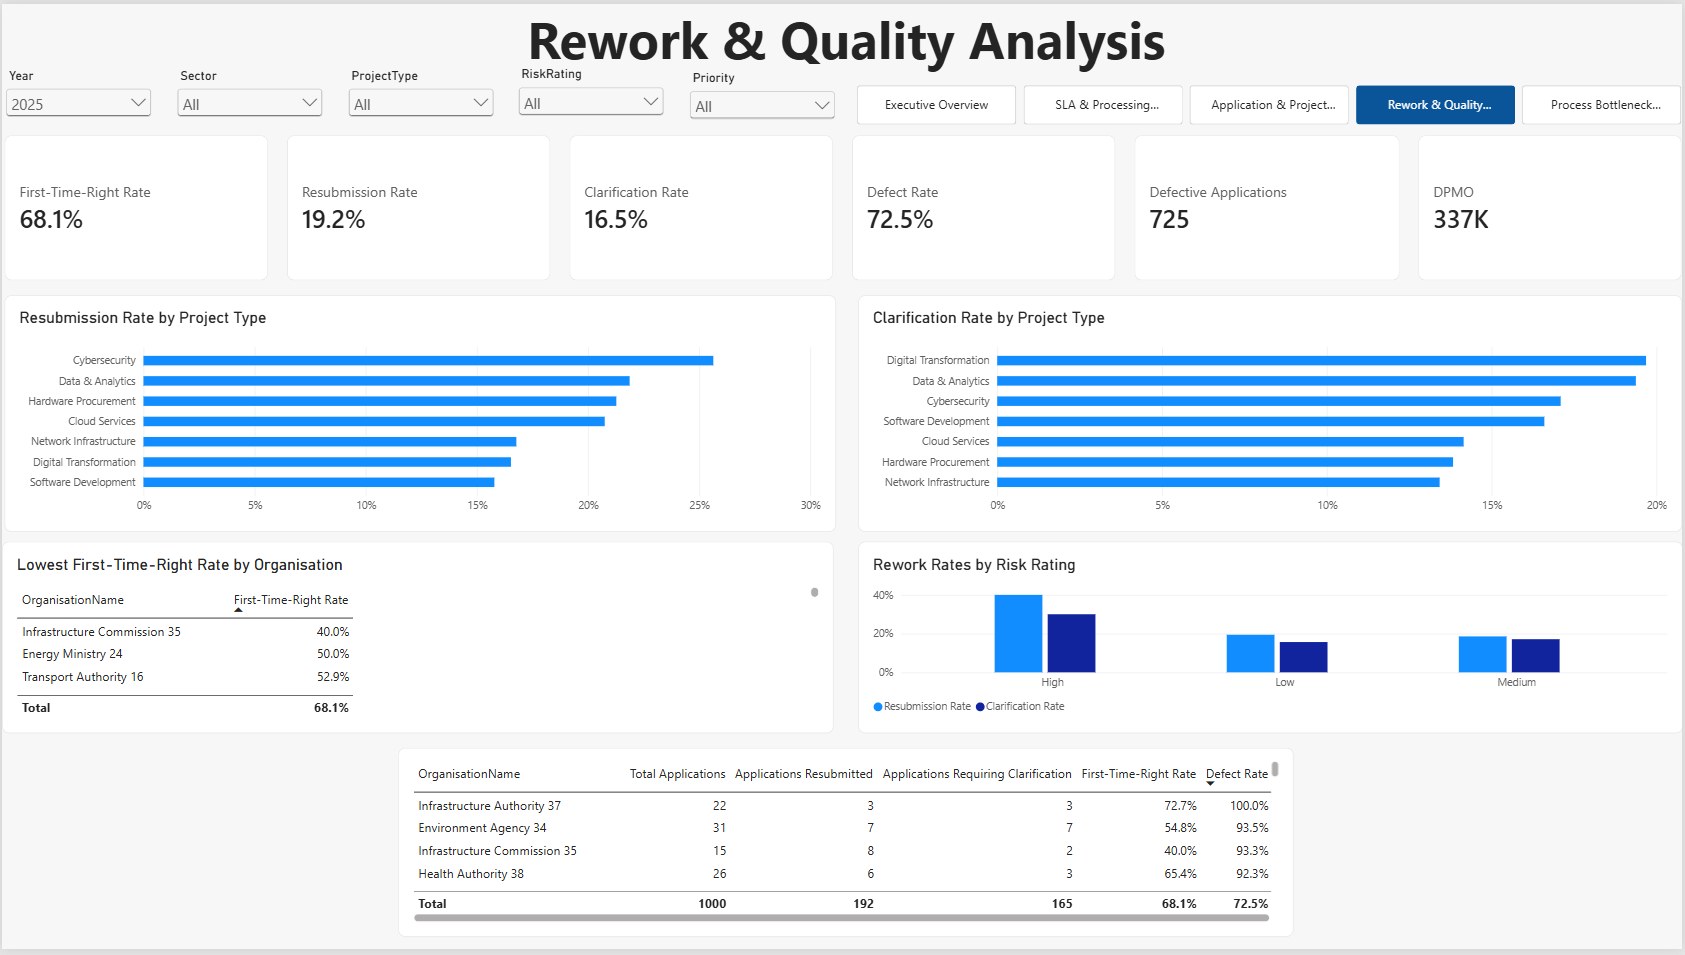

The dashboard page shown, as its layout file describes it:
{"tool":"powerbi","page":{"name":"Rework & Quality Analysis","canvas":[1920,1080],"ordinal":3},"visuals":[{"type":"textbox","box":[10,0,1910,78.3],"z":0},{"type":"cardVisual","fields":{"Data":["_Measures.First-Time-Right Rate"]},"box":[3.3,150,301.7,166.7],"z":1000},{"type":"cardVisual","fields":{"Data":["_Measures.Resubmission Rate"]},"box":[326,150,301.7,166.7],"z":2000},{"type":"cardVisual","fields":{"Data":["_Measures.Clarification Rate"]},"box":[648.7,150,301.7,166.7],"z":3000},{"type":"cardVisual","fields":{"Data":["_Measures.Defect Rate"]},"box":[971.3,150,301.7,166.7],"z":4000},{"type":"cardVisual","fields":{"Data":["_Measures.Defective Applications"]},"box":[1294,150,303.3,166.7],"z":5000},{"type":"cardVisual","title":"Approved Value","fields":{"Data":["_Measures.DPMO"]},"box":[1618.3,150,301.7,166.7],"z":6000},{"type":"clusteredBarChart","title":"Resubmission Rate by Project Type","fields":{"Category":["DimProjectType.ProjectType"],"Y":["_Measures.Resubmission Rate"]},"box":[2.9,332.9,950,270],"z":7000},{"type":"clusteredBarChart","title":"Clarification Rate by Project Type","fields":{"Category":["DimProjectType.ProjectType"],"Y":["_Measures.Clarification Rate"]},"box":[978.6,332.9,941.4,270],"z":8000},{"type":"tableEx","title":"Lowest First-Time-Right Rate by Organisation","fields":{"Values":["DimOrganisation.OrganisationName","_Measures.First-Time-Right Rate"]},"box":[0,614.1,950.4,219.3],"z":9000},{"type":"clusteredColumnChart","title":"Rework Rates by Risk Rating","fields":{"Category":["FactApplications.RiskRating"],"Y":["_Measures.Resubmission Rate","_Measures.Clarification Rate"]},"box":[978,614.1,942.3,219.3],"z":10000},{"type":"tableEx","fields":{"Values":["DimOrganisation.OrganisationName","_Measures.Total Applications","_Measures.Applications Resubmitted","_Measures.Applications Requiring Clarification","_Measures.First-Time-Right Rate","_Measures.Defect Rate"]},"box":[453.3,849.7,1023.5,216.1],"z":11000},{"type":"slicer","fields":{"Values":["FactApplications.Priority"]},"box":[781.4,75,175,65],"z":13000},{"type":"slicer","fields":{"Values":["FactApplications.RiskRating"]},"box":[586.1,71.7,175,65],"z":14000},{"type":"slicer","fields":{"Values":["DimProjectType.ProjectType"]},"box":[390.9,73.3,175,65],"z":15000},{"type":"slicer","fields":{"Values":["DimOrganisation.Sector"]},"box":[195.6,73.3,175,65],"z":16000},{"type":"slicer","fields":{"Values":["DimDate.Year"]},"box":[0.3,72.7,175,65],"z":17000},{"type":"pageNavigator","box":[976.7,93.3,943.3,45],"z":17001}]}

Visuals, with their boxes in screenshot pixels (x1, y1, x2, y2), scaled from the page's 1920x1080 canvas onto the 1685x955 screenshot:
textbox: [left=9, top=0, right=1684, bottom=69]
cardVisual - _Measures.First-Time-Right Rate: [left=3, top=133, right=268, bottom=280]
cardVisual - _Measures.Resubmission Rate: [left=286, top=133, right=551, bottom=280]
cardVisual - _Measures.Clarification Rate: [left=569, top=133, right=834, bottom=280]
cardVisual - _Measures.Defect Rate: [left=852, top=133, right=1117, bottom=280]
cardVisual - _Measures.Defective Applications: [left=1136, top=133, right=1402, bottom=280]
"Approved Value" cardVisual: [left=1420, top=133, right=1684, bottom=280]
"Resubmission Rate by Project Type" clusteredBarChart: [left=3, top=294, right=836, bottom=533]
"Clarification Rate by Project Type" clusteredBarChart: [left=859, top=294, right=1684, bottom=533]
"Lowest First-Time-Right Rate by Organisation" tableEx: [left=0, top=543, right=834, bottom=737]
"Rework Rates by Risk Rating" clusteredColumnChart: [left=858, top=543, right=1684, bottom=737]
tableEx - DimOrganisation.OrganisationName x _Measures.Total Applications: [left=398, top=751, right=1296, bottom=942]
slicer - FactApplications.Priority: [left=686, top=66, right=839, bottom=124]
slicer - FactApplications.RiskRating: [left=514, top=63, right=668, bottom=121]
slicer - DimProjectType.ProjectType: [left=343, top=65, right=497, bottom=122]
slicer - DimOrganisation.Sector: [left=172, top=65, right=325, bottom=122]
slicer - DimDate.Year: [left=0, top=64, right=154, bottom=122]
pageNavigator: [left=857, top=83, right=1684, bottom=122]
